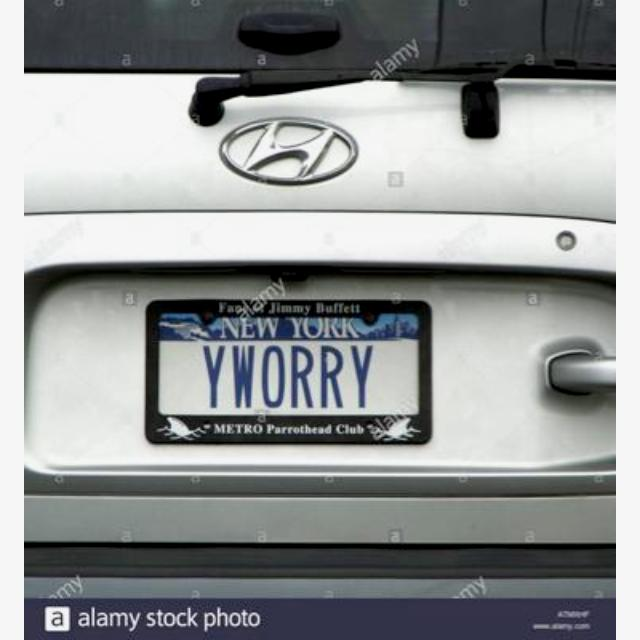plate: (160, 314, 420, 414)
